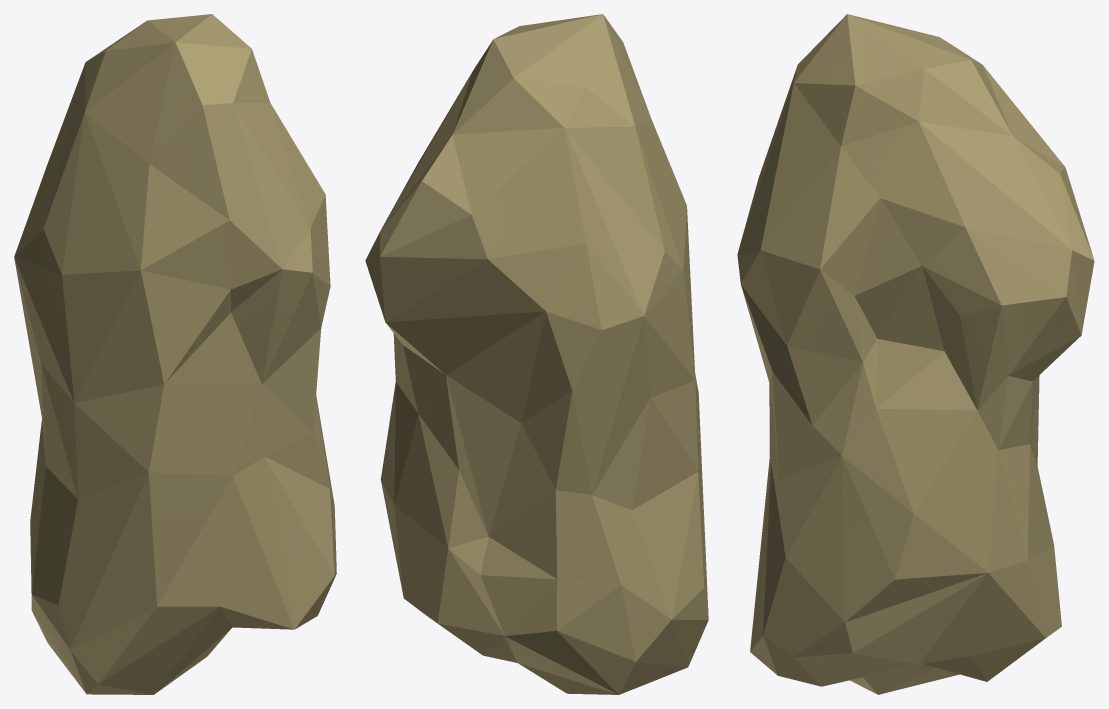
File: SM_small_rock_50.fbx
3 renders of one model, left to right at view 1: azimuth 30°, elevation 25°; view 2: azimuth 150°, elevation 25°; view 3: azimuth 270°, elevation 25°, orthographic. The views are drawn at different scales.
Parts seen in each view (by area): view 1: small_rock_50; view 2: small_rock_50; view 3: small_rock_50.
Boxes of the visible parts, bbox=[...] form: small_rock_50: bbox=[14, 14, 336, 694]; small_rock_50: bbox=[365, 14, 708, 694]; small_rock_50: bbox=[737, 14, 1094, 694].
Size of the model in its own units: 90.26 by 200 by 95.98.
